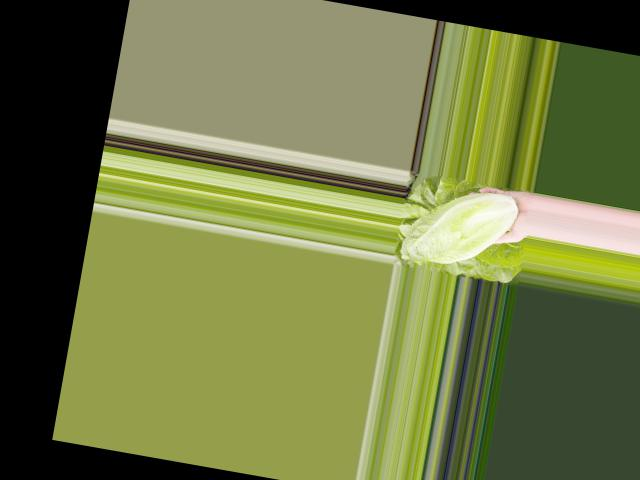lettuce: (398, 175, 522, 278)
